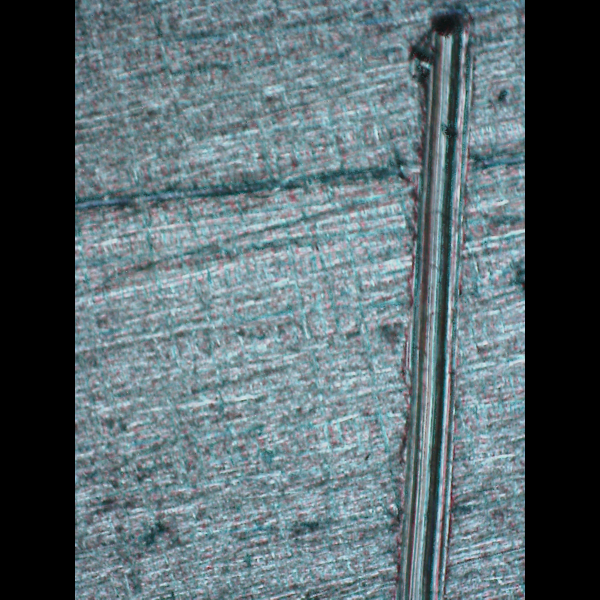d: (377, 5, 484, 600)
